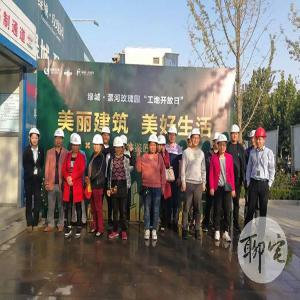red: (255, 126, 267, 149)
white: (28, 128, 42, 148), (70, 133, 83, 154), (217, 134, 229, 156), (92, 134, 104, 155), (54, 128, 66, 148), (113, 137, 125, 157), (148, 135, 160, 154), (191, 128, 202, 148), (230, 124, 241, 144), (168, 126, 179, 144), (102, 127, 112, 146), (157, 135, 167, 153), (213, 131, 221, 150), (249, 129, 256, 148), (122, 135, 129, 151), (187, 132, 193, 148)
